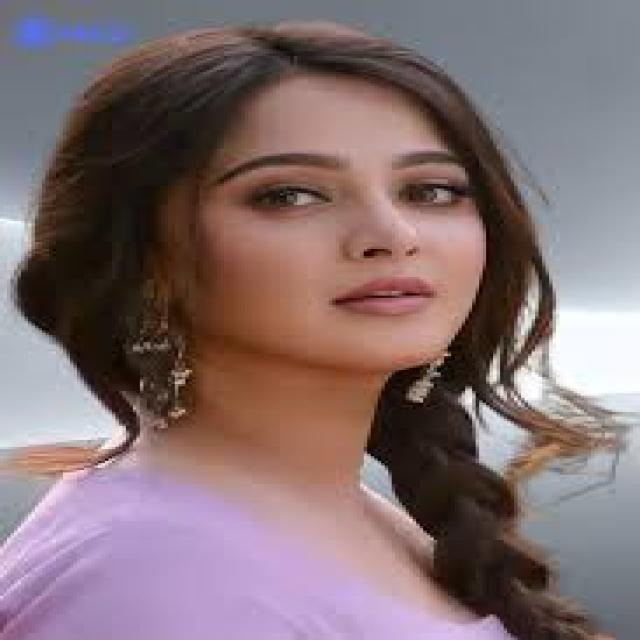no_dark_circle: (249, 205, 330, 221), (416, 204, 474, 218)
